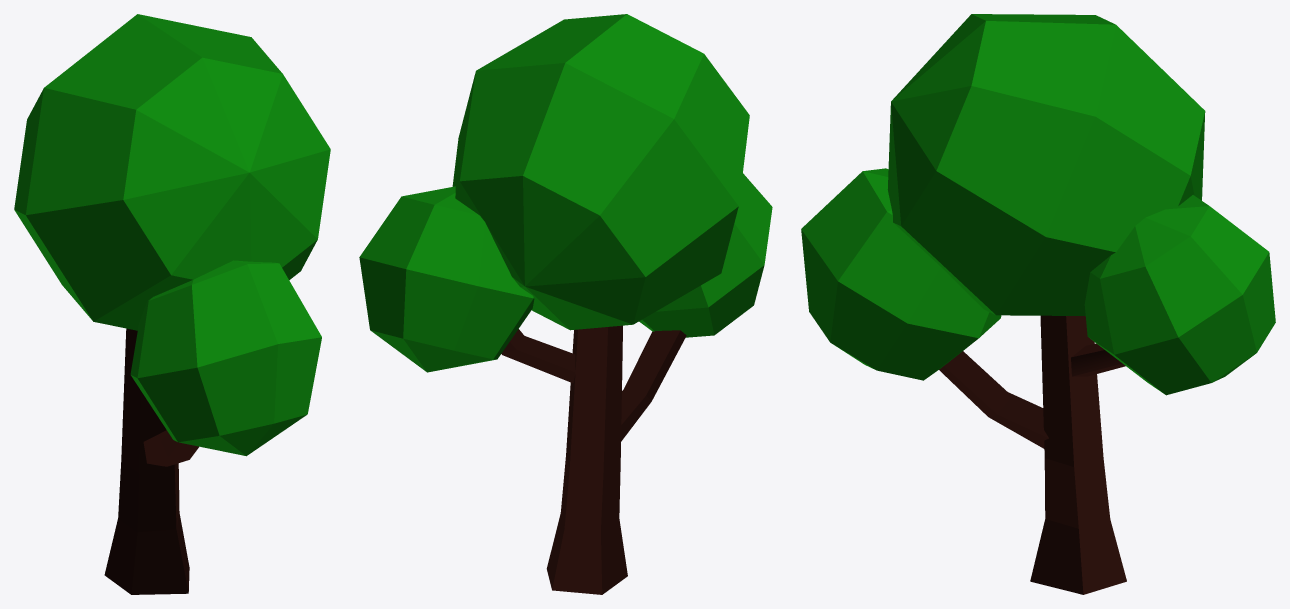
Rendered from Tree5.FBX.
The picture shows the model from 3 angles, left to right: view 1: azimuth 30°, elevation 25°; view 2: azimuth 150°, elevation 25°; view 3: azimuth 270°, elevation 25°; orthographic projection. The views are drawn at different scales.
Parts seen in each view (by area): view 1: Tree5_c, Tree5_b, Tree5_a; view 2: Tree5_c, Tree5_d, Tree5_a, Tree5_b; view 3: Tree5_c, Tree5_d, Tree5_b, Tree5_a.
Part boxes in pixels (left/top/right/bottom): Tree5_c: left=14, top=14, right=330, bottom=330; Tree5_b: left=130, top=260, right=321, bottom=456; Tree5_a: left=104, top=328, right=198, bottom=594; Tree5_c: left=452, top=14, right=749, bottom=330; Tree5_d: left=359, top=186, right=534, bottom=372; Tree5_a: left=501, top=325, right=686, bottom=594; Tree5_b: left=639, top=173, right=772, bottom=337; Tree5_c: left=887, top=14, right=1205, bottom=315; Tree5_d: left=1084, top=195, right=1275, bottom=395; Tree5_b: left=801, top=168, right=1001, bottom=380; Tree5_a: left=939, top=315, right=1126, bottom=594.
Size of the model in its own units: 13570 by 22105 by 17087.
